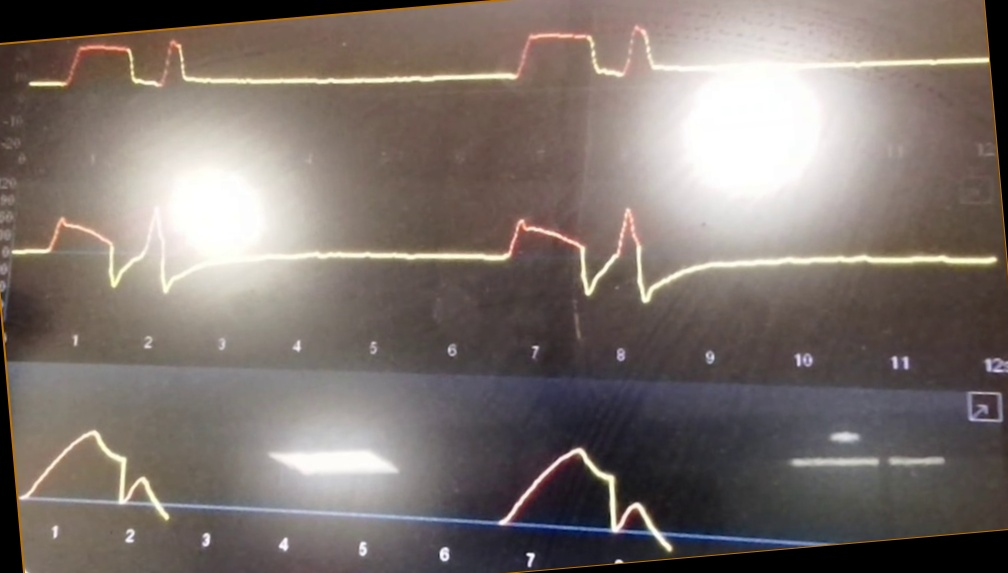Double_Triggering Flow: (15, 183, 997, 321)
Double_Triggering Volume: (23, 420, 682, 551)
